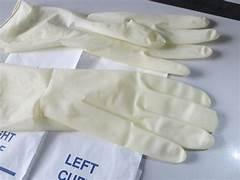Glove: (0, 64, 216, 162), (0, 2, 218, 74)
